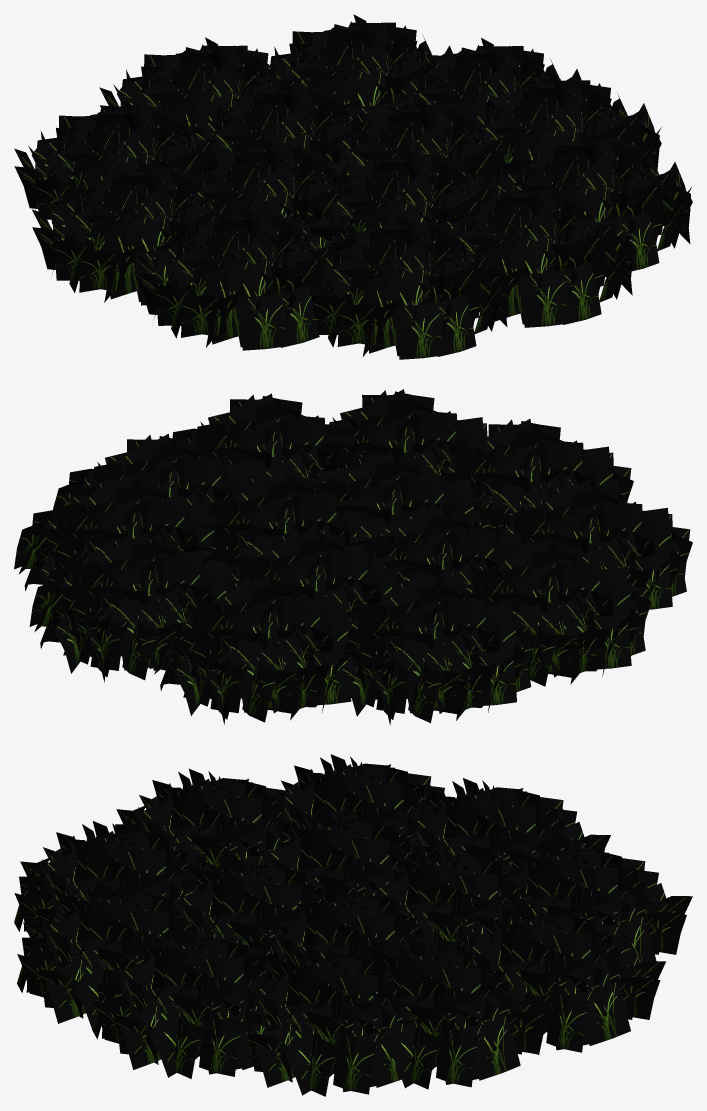
Rendered from MedGrass3m.dae.
The picture shows the model from 3 angles, top to bottom: view 1: azimuth 30°, elevation 25°; view 2: azimuth 150°, elevation 25°; view 3: azimuth 270°, elevation 25°; orthographic projection.
Parts seen in each view (by area): view 1: MedGrass3m_Hi; view 2: MedGrass3m_Hi; view 3: MedGrass3m_Hi.
Boxes of the visible parts, x1,y1,x2,y2 form: MedGrass3m_Hi: [14, 14, 692, 359]; MedGrass3m_Hi: [14, 389, 692, 725]; MedGrass3m_Hi: [14, 754, 692, 1096].
Bounding box in the file's own units: 3.09 × 3.09 × 0.4636.
1 material, 1 textured.
